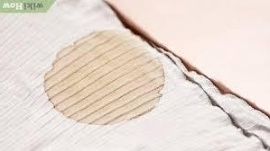coffee: (44, 35, 161, 125)
